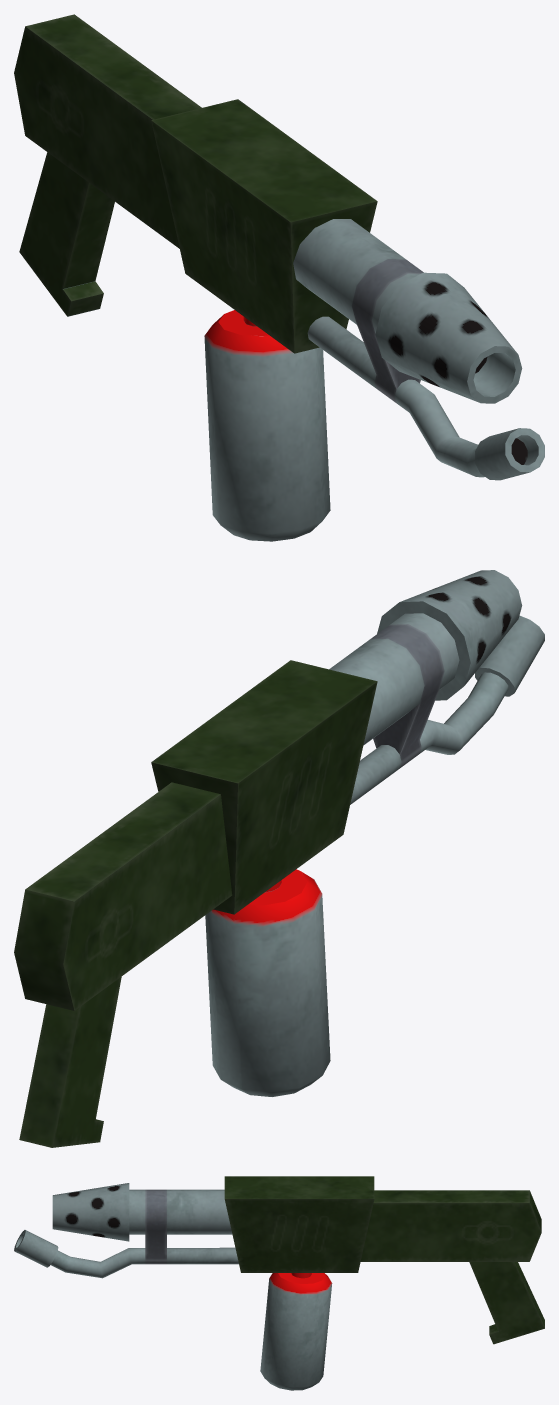
File: SM_Flamethrower.fbx
3 views of the same model, one above another, from view 1: azimuth 30°, elevation 25°; view 2: azimuth 150°, elevation 25°; view 3: azimuth 270°, elevation 25° (orthographic). The views are drawn at different scales.
Visible parts, largest first — view 1: SM_Flamethrower; view 2: SM_Flamethrower; view 3: SM_Flamethrower.
Boxes of the visible parts, left/top/right/bottom form: SM_Flamethrower: left=14, top=14, right=544, bottom=541; SM_Flamethrower: left=14, top=570, right=544, bottom=1147; SM_Flamethrower: left=14, top=1176, right=544, bottom=1390.
Size of the model in its own units: 0.0753 by 0.2587 by 0.6323.
